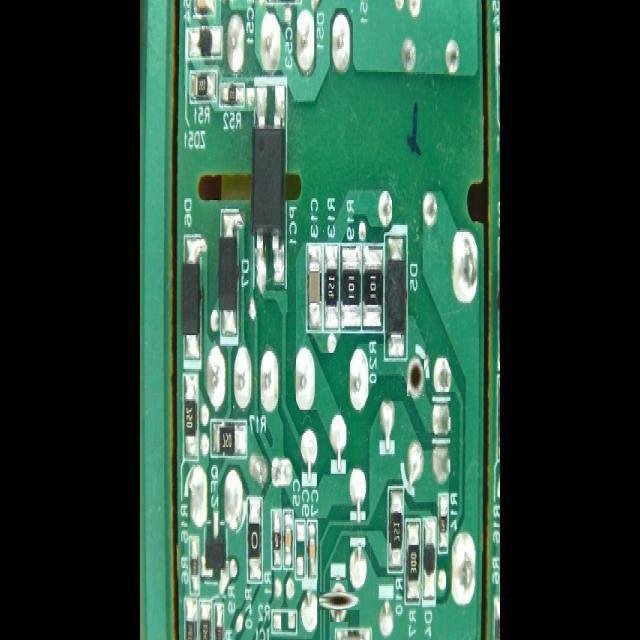damged: (324, 586, 354, 616), (406, 358, 424, 396)
